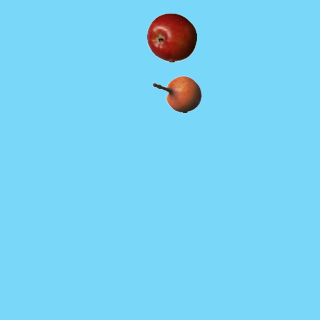Apple Braeburn: (146, 12, 196, 62)
Granadilla: (151, 69, 201, 119)
